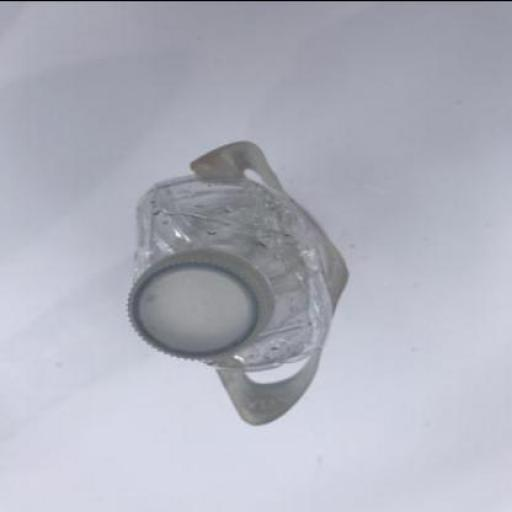plastic: (124, 141, 348, 426), (126, 252, 272, 362)
